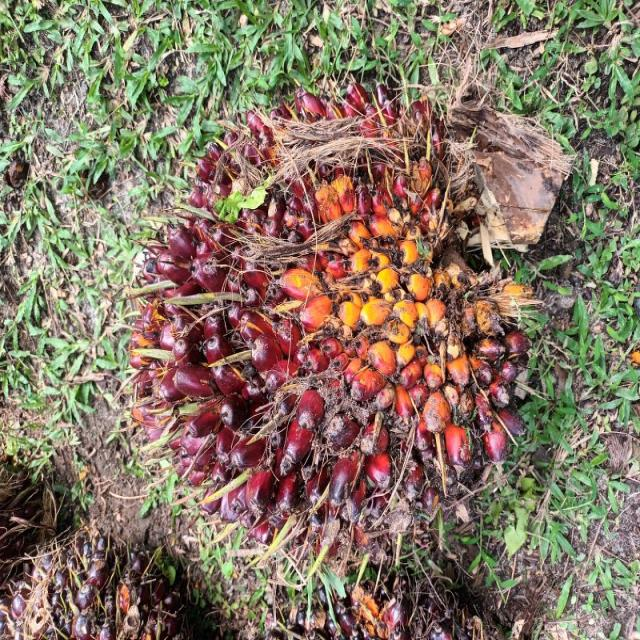fraksi 1: (100, 35, 508, 584)
